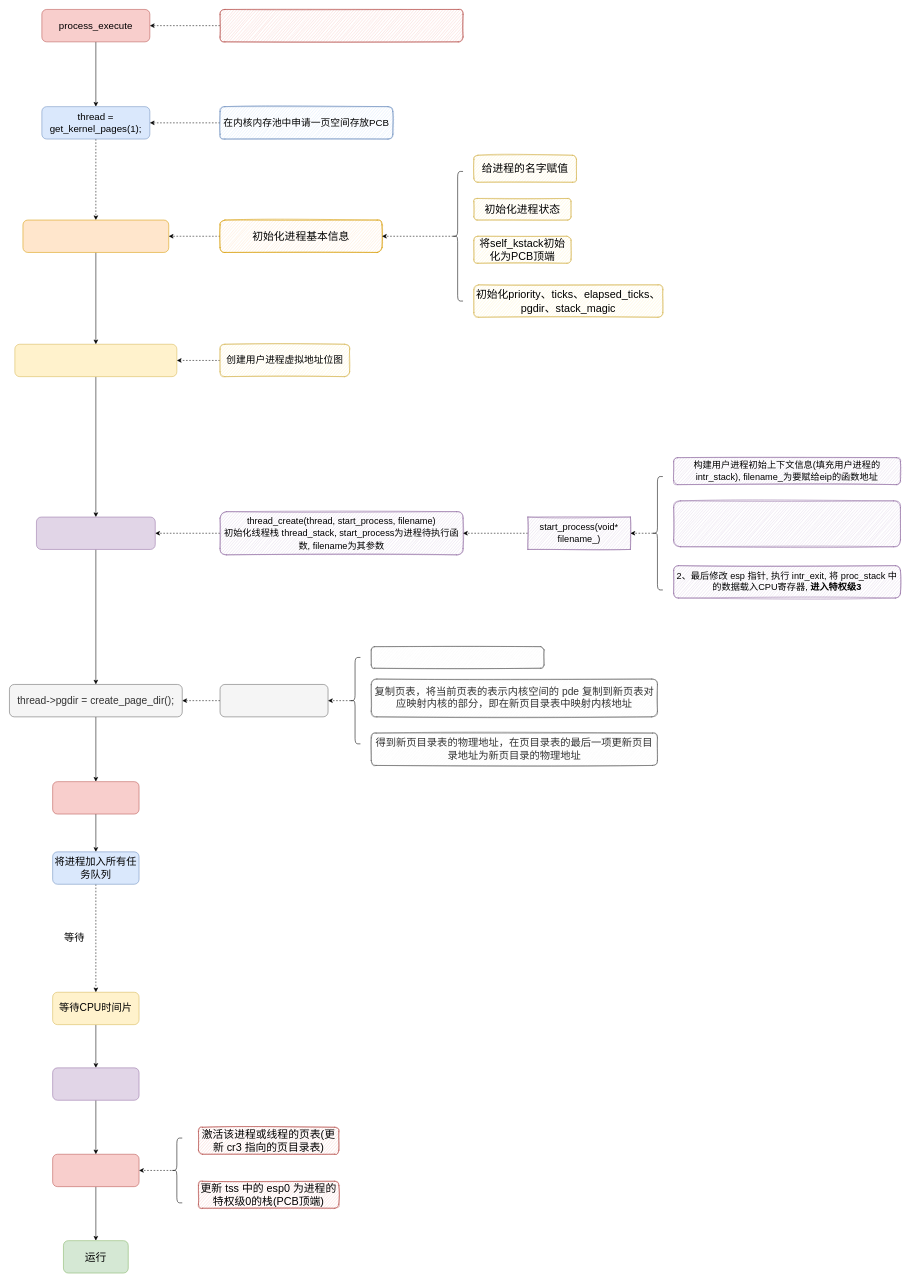
Some shapes in this 910 by 1283 pixel diagram are drawn without their labels. Here are the shapes that lost their labels. From the top down, the box of each, then its label:
(220, 9, 463, 42): process_execute(void* filename, char* name) 创建用户进程
(22, 220, 169, 252): init_thread
(14, 344, 177, 377): create_user_vaddr_bitmap(thread)
(36, 517, 155, 549): thread_create
(673, 500, 900, 547): 1、获取当前线程，获取当前线程的中断栈， 申请用户栈空间 ，的中断栈的esp指向申请用户栈空间，其他的寄存器修改对应的段特权级
(371, 646, 544, 668): 在内核空间来申请一页创建页目录表
(220, 684, 328, 717): 创建进程的页目录表
(52, 781, 139, 814): 将进程加入就绪队列
(52, 1067, 139, 1100): 调度 schedule()
(52, 1154, 139, 1187): process_activate
